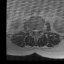CCS_normal: (35, 27, 37, 35)
LFS_normal: (39, 27, 41, 33)
LLS_normal: (37, 27, 39, 34)
RFS_normal: (31, 27, 33, 33)
RLS_normal: (33, 27, 35, 34)
